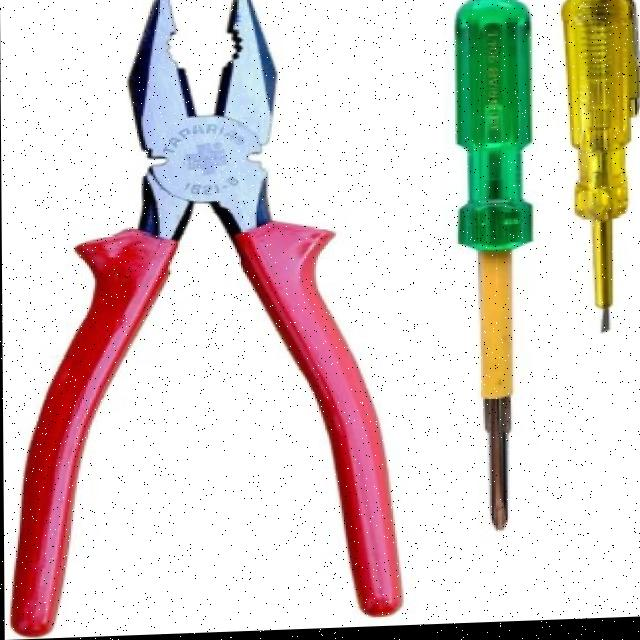Screwdriver: (456, 0, 533, 532), (562, 0, 639, 336)
